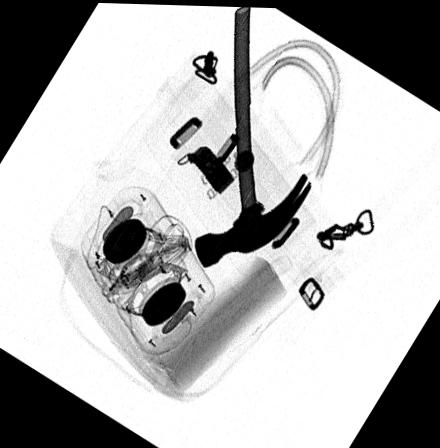Hammer: (192, 6, 310, 268)
